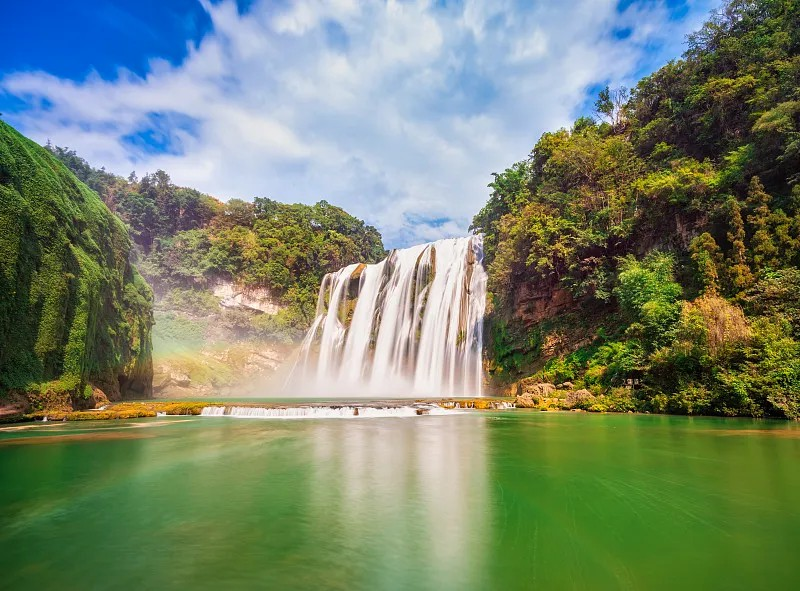Huangguoshu: (311, 235, 488, 397)
